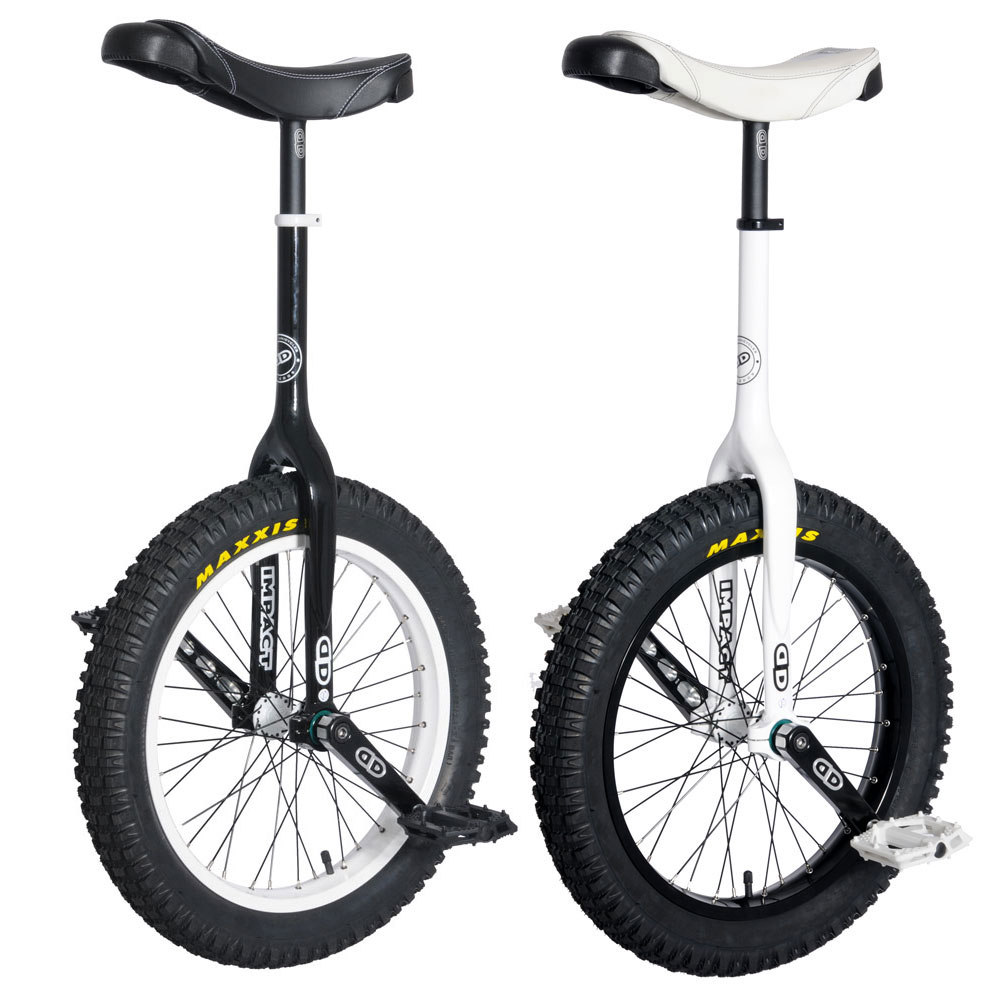seat: (97, 15, 415, 126), (558, 27, 886, 115)
wheel: (526, 469, 959, 978), (78, 471, 497, 967)
